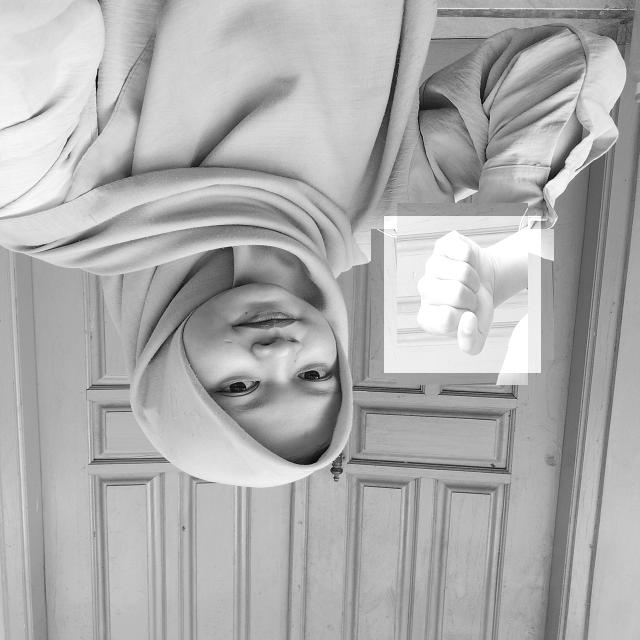baik: (384, 216, 541, 373)
